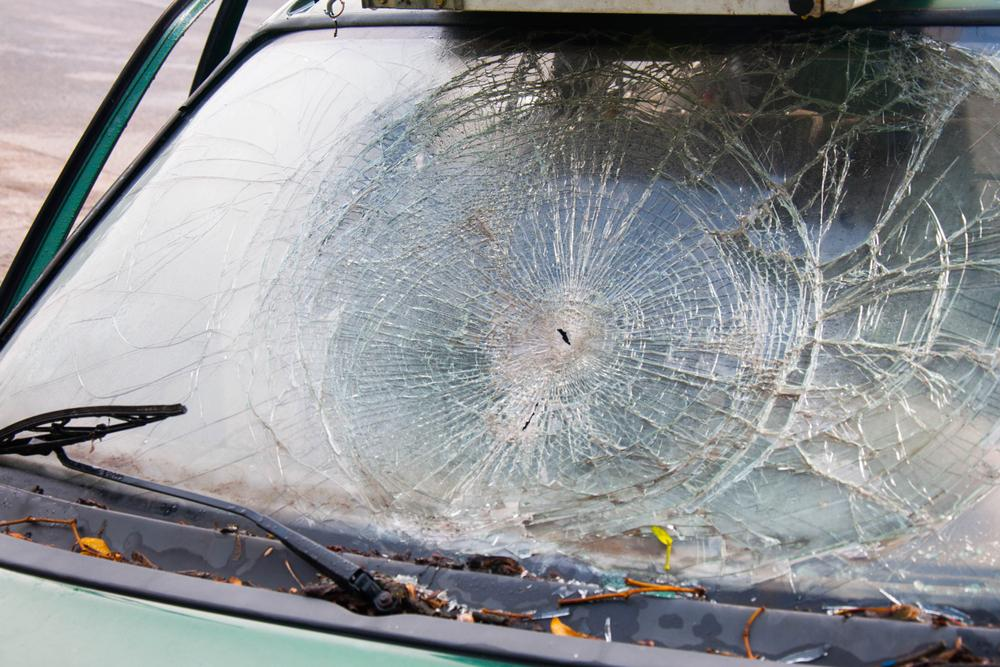glass shatter: (0, 26, 1000, 626)
